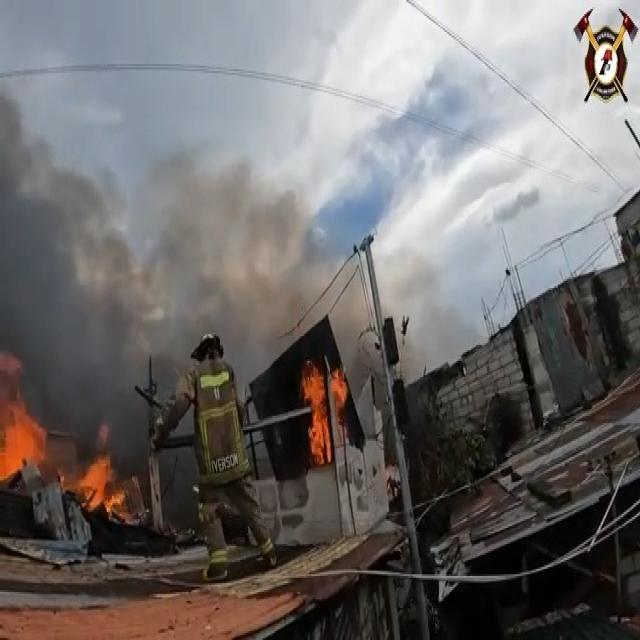Fire: (0, 352, 136, 535), (290, 345, 351, 471)
Smoke: (0, 100, 403, 526)
